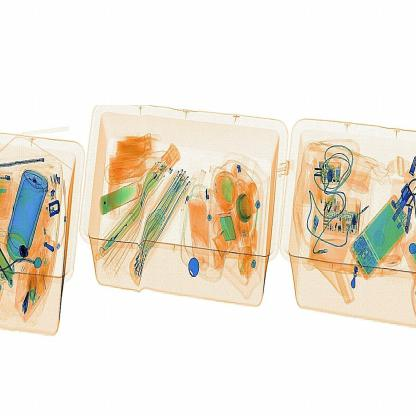scissors: (11, 238, 34, 265)
